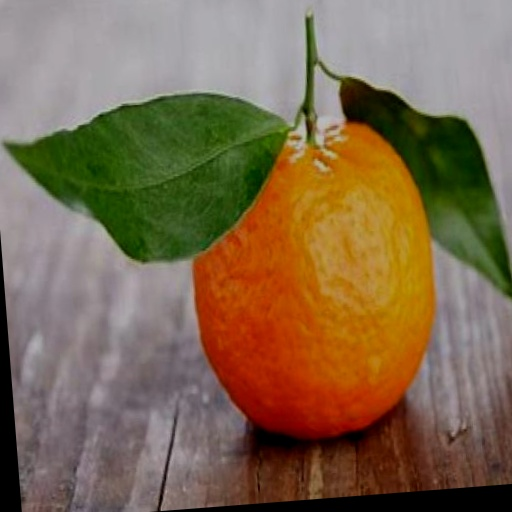fruit: (193, 124, 433, 438)
